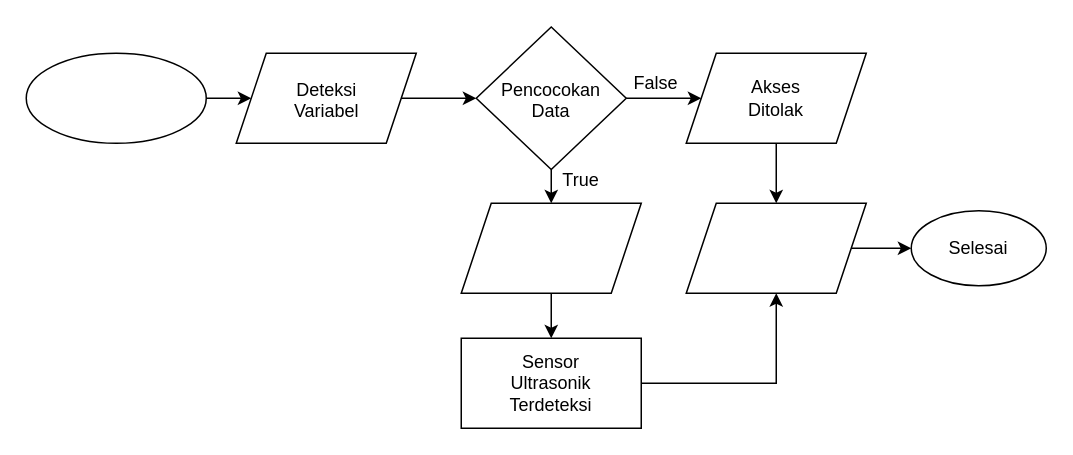
Image size: 1073x455. Some labels were removed from this diagram. Here are the shapes that lost their labels. From the top down, the centre of each, then its label:
At point 115,97: "Mulai".
At point 550,247: "Palang Terbuka".
At point 775,247: "Palang Tertutup".
